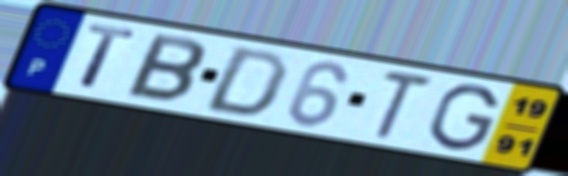6: (284, 59, 351, 129)
B: (121, 30, 209, 106)
D: (198, 45, 293, 119)
G: (425, 83, 502, 152)
T: (368, 67, 438, 141), (77, 21, 141, 93)
